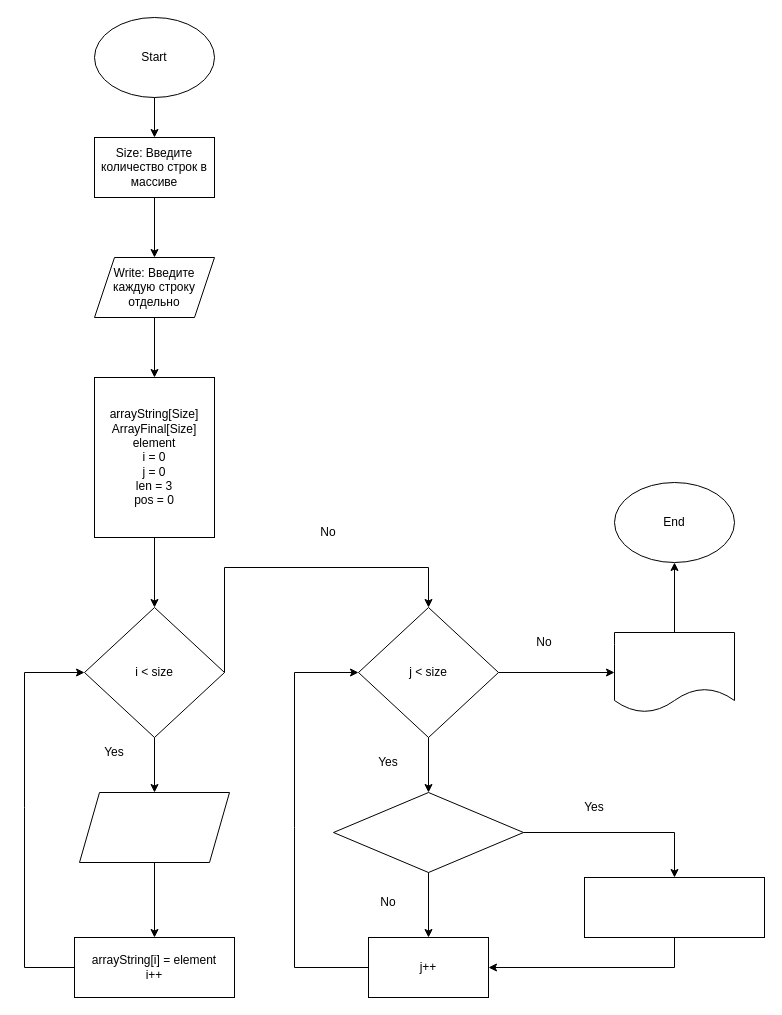
This 782x1015 diagram has some shape labels left out. Here are the shapes that lost their labels. From the top down, the centre of each, then its label:
the point at 674,672: arrayFinal
the point at 154,827: element
the point at 428,832: arrayString.Length <= len
the point at 674,907: arrayFinal[pos] = arrayString[j] pos++
